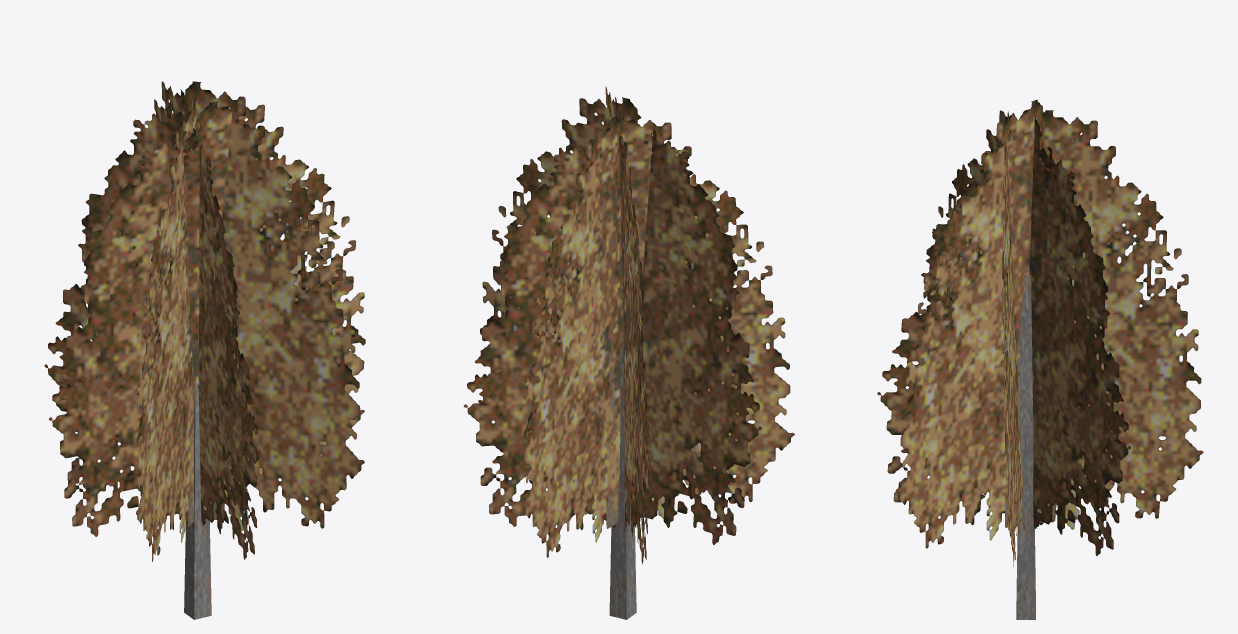
Rendered from Tree_4.fbx.
3 renders of one model, left to right at view 1: azimuth 30°, elevation 25°; view 2: azimuth 150°, elevation 25°; view 3: azimuth 270°, elevation 25°, orthographic. The views are drawn at different scales.
Visible parts, largest first — view 1: Tree.4; view 2: Tree.4; view 3: Tree.4.
Boxes of the visible parts, box(x1,y1,x2,y2) form: Tree.4: box(44, 81, 365, 619); Tree.4: box(463, 86, 794, 619); Tree.4: box(877, 99, 1203, 619).
Size of the model in its own units: 958 by 1342 by 891.
